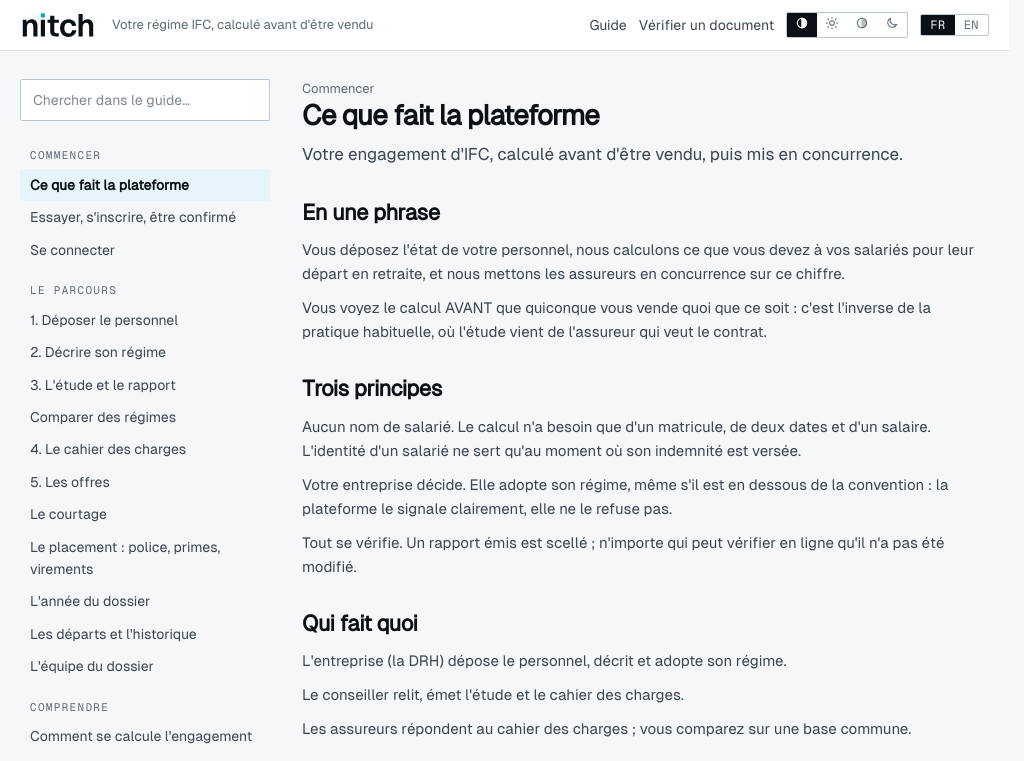
Scenario: l'écran du guide › la recherche trouve la définition, accents ignorés
Type "cotisation a verser" into the search field labelled "Chercher dans le guide" at x=145, y=100, box [20,79,270,122]
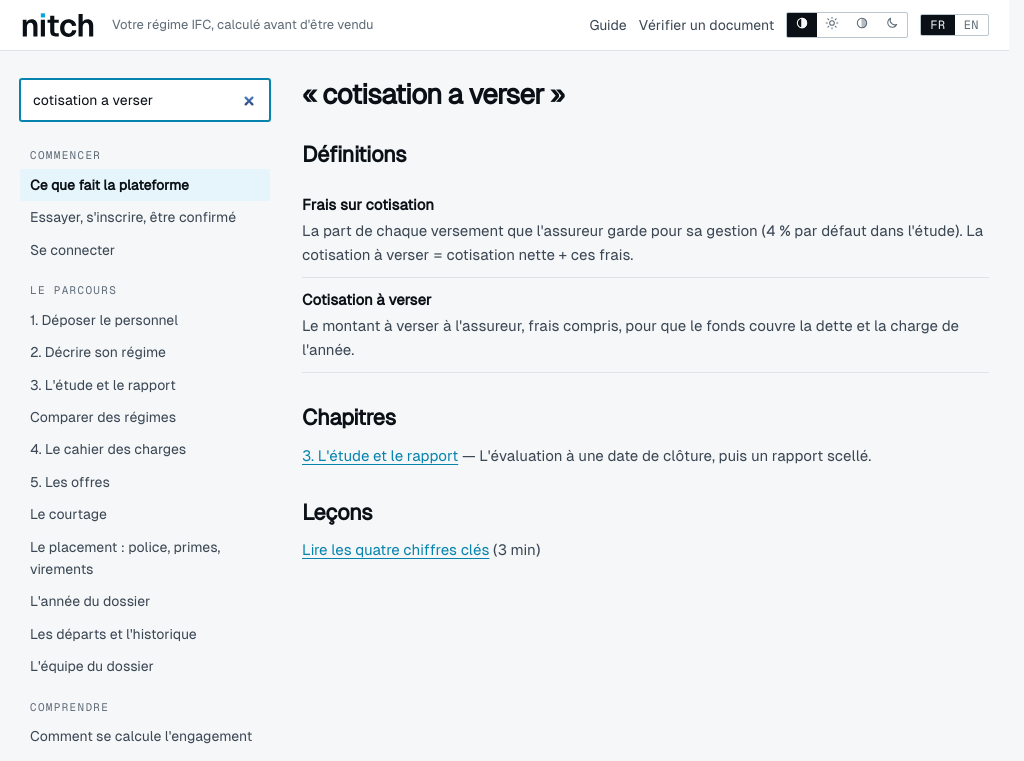
Now the text "Le montant à verser à l'assureur, frais compris" is shown, box [302,317,959,358]
